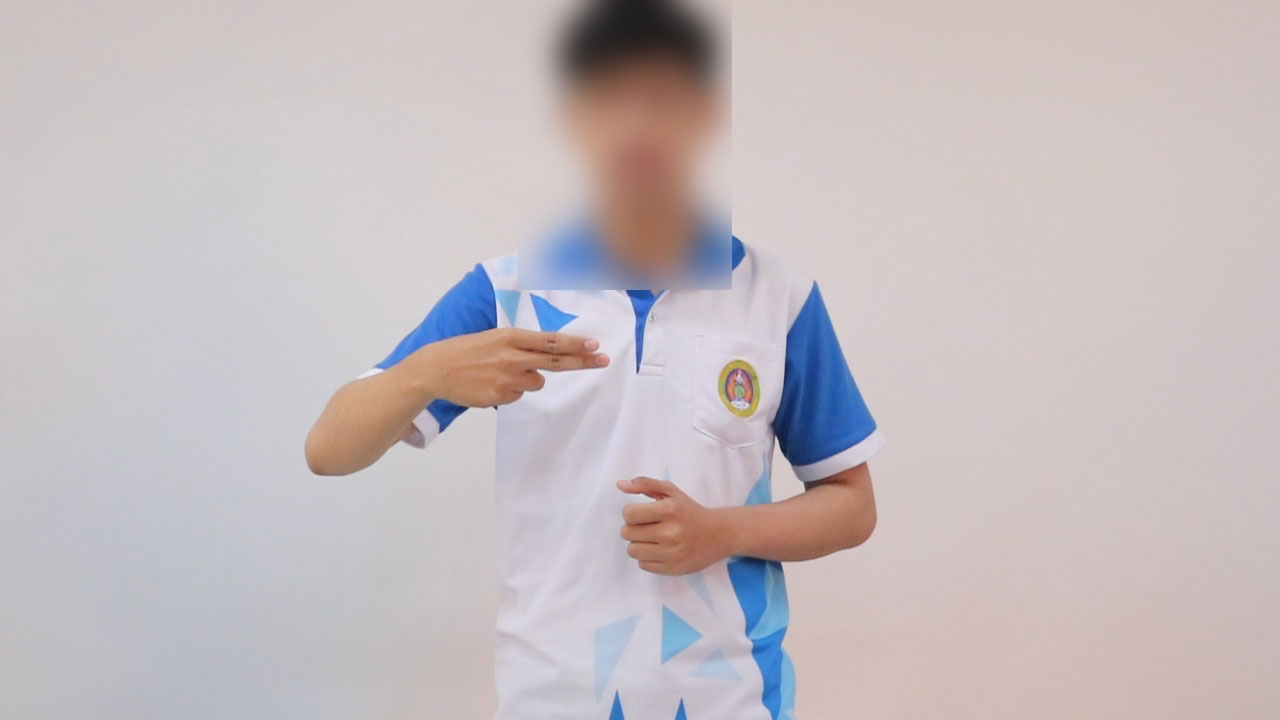hor: (405, 318, 624, 423)
